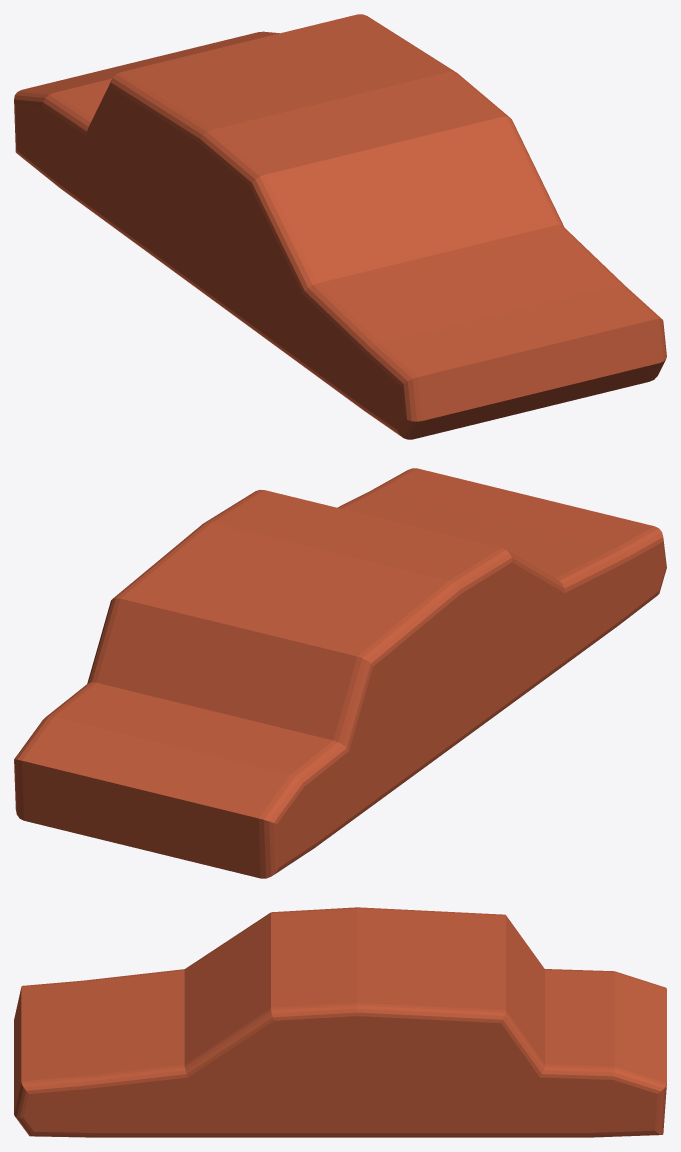
File: car-muscle.glb
3 renders of one model, top to bottom at view 1: azimuth 30°, elevation 25°; view 2: azimuth 150°, elevation 25°; view 3: azimuth 270°, elevation 25°, orthographic. The views are drawn at different scales.
Visible parts, largest first — view 1: body; view 2: body; view 3: body.
Part boxes in pixels (x1,y1,x2,y2): body: [14, 14, 666, 439]; body: [14, 468, 666, 878]; body: [14, 907, 666, 1137].
Size of the model in its own units: 1.89 by 1.13 by 5.01.
